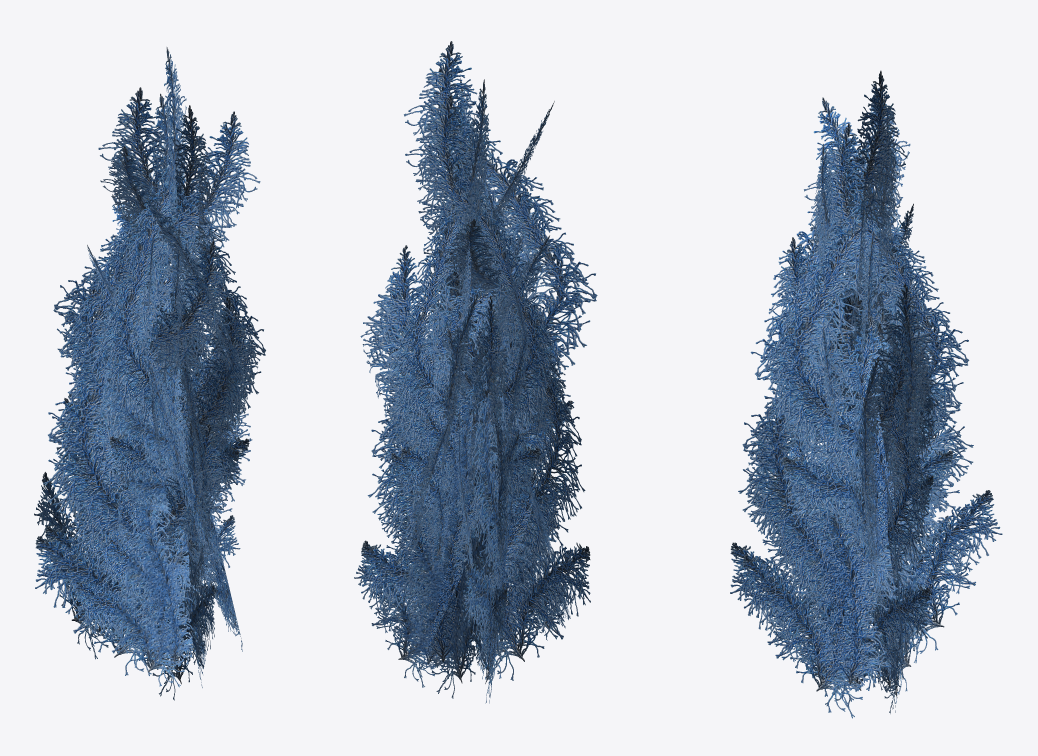
File: plante_5_2.FBX
3 renders of one model, left to right at view 1: azimuth 30°, elevation 25°; view 2: azimuth 150°, elevation 25°; view 3: azimuth 270°, elevation 25°, orthographic. The views are drawn at different scales.
Parts seen in each view (by area): view 1: Plane453; view 2: Plane453; view 3: Plane453.
Boxes of the visible parts, x1,y1,x2,y2 form: Plane453: (34, 47, 265, 700); Plane453: (354, 41, 597, 703); Plane453: (730, 70, 1002, 718).
Bounding box in the file's own units: 153 × 403 × 190.
Materials: 1 (1 with a texture image).
